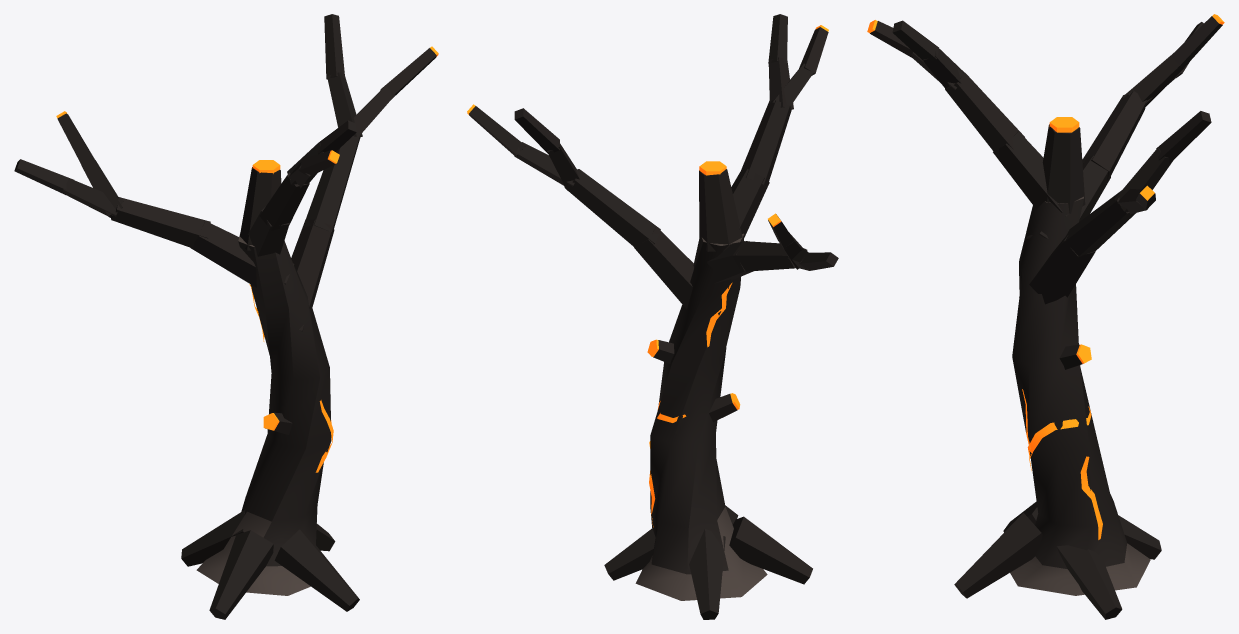
Rendered from charred_tree.glb.
3 renders of one model, left to right at view 1: azimuth 30°, elevation 25°; view 2: azimuth 150°, elevation 25°; view 3: azimuth 270°, elevation 25°, orthographic. The views are drawn at different scales.
Visible parts, largest first — view 1: charred_tree; view 2: charred_tree; view 3: charred_tree.
Part boxes in pixels (x1,y1,x2,y2): charred_tree: [14, 14, 438, 619]; charred_tree: [467, 14, 838, 619]; charred_tree: [867, 14, 1224, 619].
Bounding box in the file's own units: 3.17 × 3.94 × 2.28.
